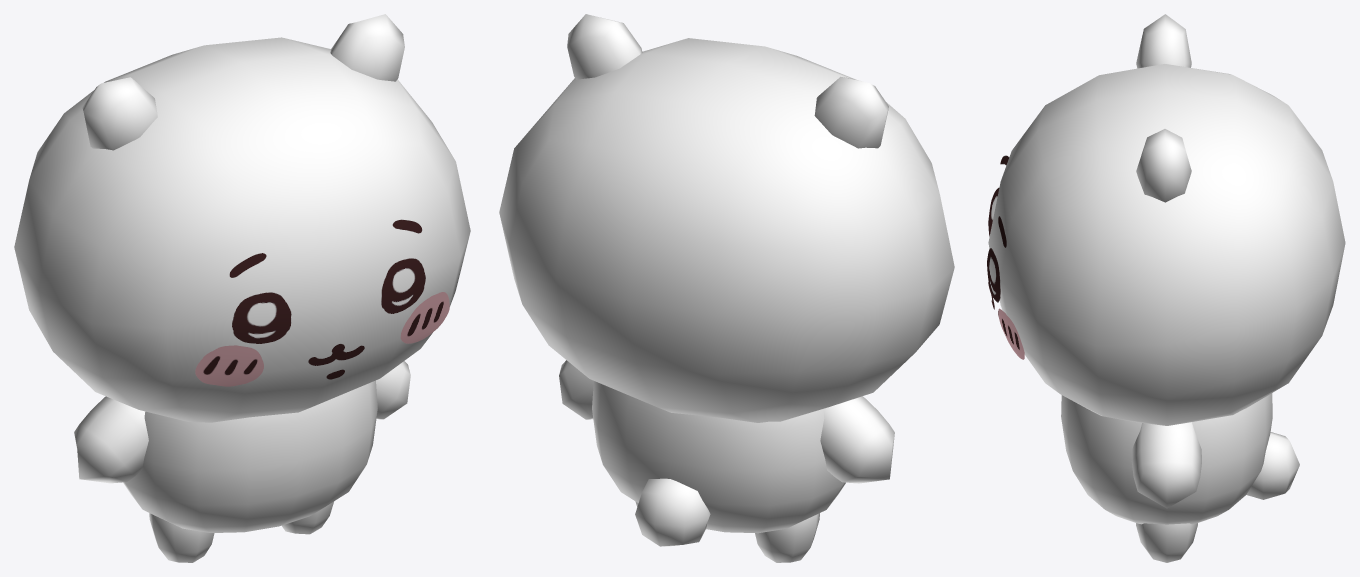
File: chiikawa.glb
3 views of the same model, side by side, from view 1: azimuth 30°, elevation 25°; view 2: azimuth 150°, elevation 25°; view 3: azimuth 270°, elevation 25° (orthographic). The views are drawn at different scales.
Visible parts, largest first — view 1: head, torso, face, arm_l, ear_l, ear_r, foot_l, arm_r, foot_r; view 2: head, torso, arm_l, tail, ear_l, ear_r, foot_l, arm_r; view 3: head, torso, arm_r, ear_r, ear_l, tail, foot_r, face.
Part boxes in pixels (x1=…): head: x1=14, y1=37, x2=470, y2=422; torso: x1=123, y1=380, x2=377, y2=532; face: x1=195, y1=219, x2=449, y2=386; arm_l: x1=74, y1=396, x2=148, y2=483; ear_l: x1=82, y1=77, x2=157, y2=150; ear_r: x1=330, y1=14, x2=404, y2=81; foot_l: x1=149, y1=513, x2=214, y2=562; arm_r: x1=376, y1=361, x2=410, y2=419; foot_r: x1=282, y1=501, x2=333, y2=534; head: x1=499, y1=38, x2=954, y2=422; torso: x1=592, y1=381, x2=845, y2=533; arm_l: x1=820, y1=396, x2=894, y2=483; tail: x1=635, y1=478, x2=710, y2=546; ear_l: x1=814, y1=76, x2=888, y2=148; ear_r: x1=567, y1=14, x2=642, y2=79; foot_l: x1=755, y1=513, x2=819, y2=562; arm_r: x1=559, y1=360, x2=593, y2=419; head: x1=988, y1=64, x2=1345, y2=425; torso: x1=1061, y1=393, x2=1272, y2=524; arm_r: x1=1131, y1=422, x2=1201, y2=508; ear_r: x1=1136, y1=129, x2=1191, y2=202; ear_l: x1=1136, y1=14, x2=1191, y2=68; tail: x1=1246, y1=432, x2=1299, y2=499; foot_r: x1=1136, y1=523, x2=1197, y2=562; face: x1=987, y1=155, x2=1024, y2=359.
Size of the model in its own units: 1.58 by 1.85 by 1.33.
Materials: 2 (2 with a texture image).
